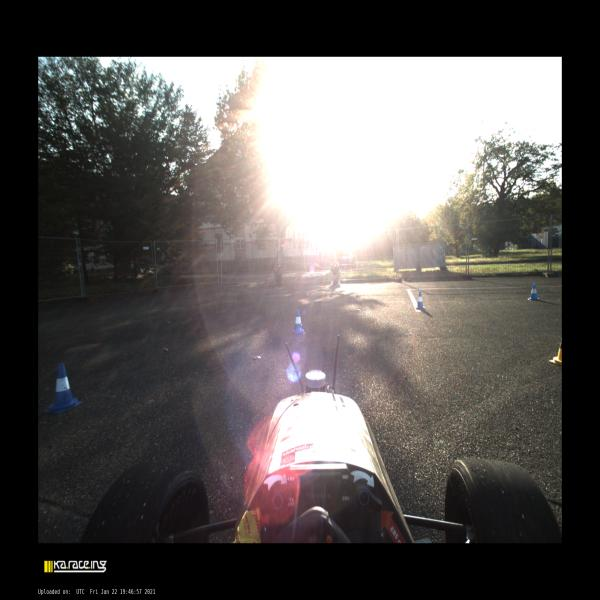blue_cone: (43, 363, 83, 414), (292, 309, 304, 334), (528, 283, 540, 301), (416, 292, 425, 310)
yellow_cone: (549, 341, 562, 366)
